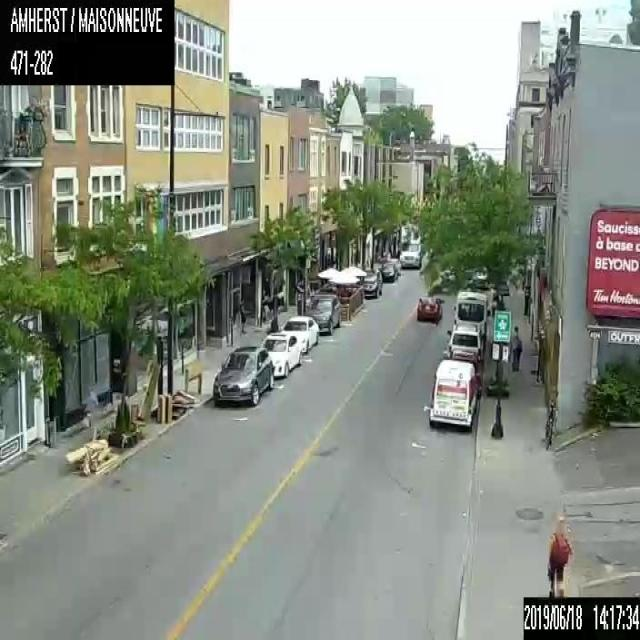pedestrian: (544, 520, 571, 596), (510, 324, 523, 371), (238, 297, 248, 332)
vehicle: (212, 346, 273, 406), (428, 359, 478, 431), (259, 331, 302, 378), (452, 289, 490, 342), (445, 323, 483, 365), (306, 293, 342, 334), (280, 315, 318, 352), (413, 296, 442, 324), (398, 239, 422, 268), (359, 268, 382, 297), (377, 260, 397, 282)
